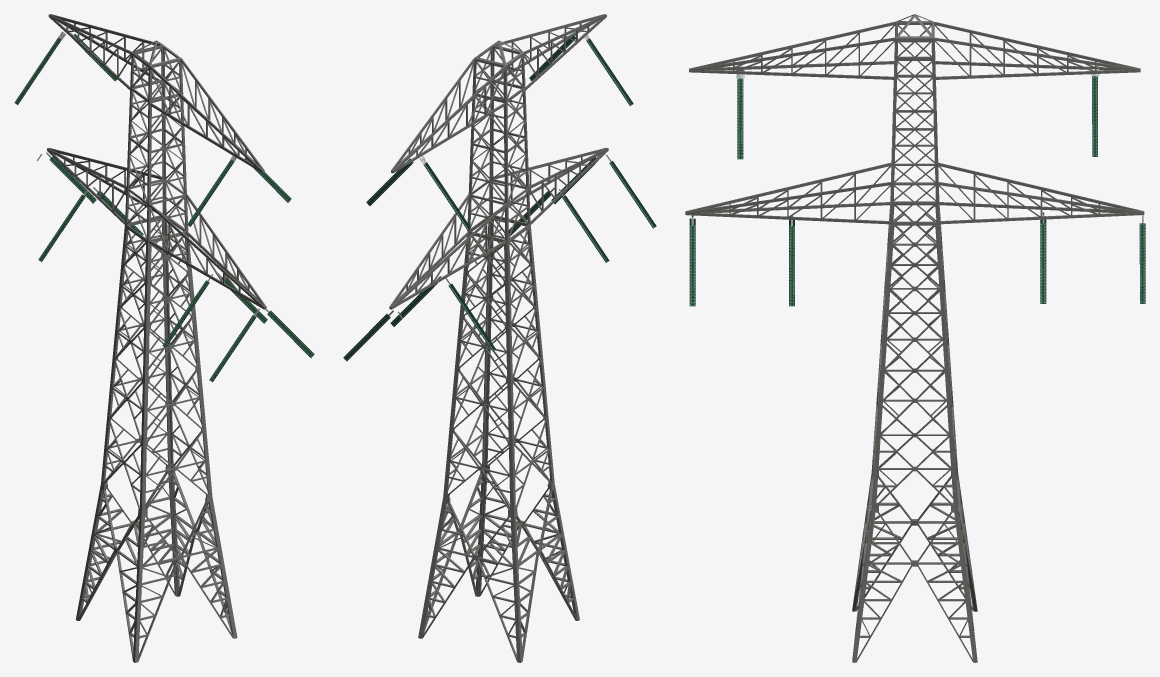
The model's file is HighVoltagetest3.glb.
The picture shows the model from 3 angles, left to right: view 1: azimuth 30°, elevation 25°; view 2: azimuth 150°, elevation 25°; view 3: azimuth 270°, elevation 25°; orthographic projection. The views are drawn at different scales.
Parts seen in each view (by area): view 1: pole_3dmesh; view 2: pole_3dmesh; view 3: pole_3dmesh.
Part boxes in pixels (x1,y1,x2,y2): pole_3dmesh: [14, 14, 314, 662]; pole_3dmesh: [343, 14, 656, 662]; pole_3dmesh: [685, 14, 1145, 662].
Bounding box in the file's own units: 9.4 × 47.74 × 32.01.
Materials: 7 (7 with a texture image).
